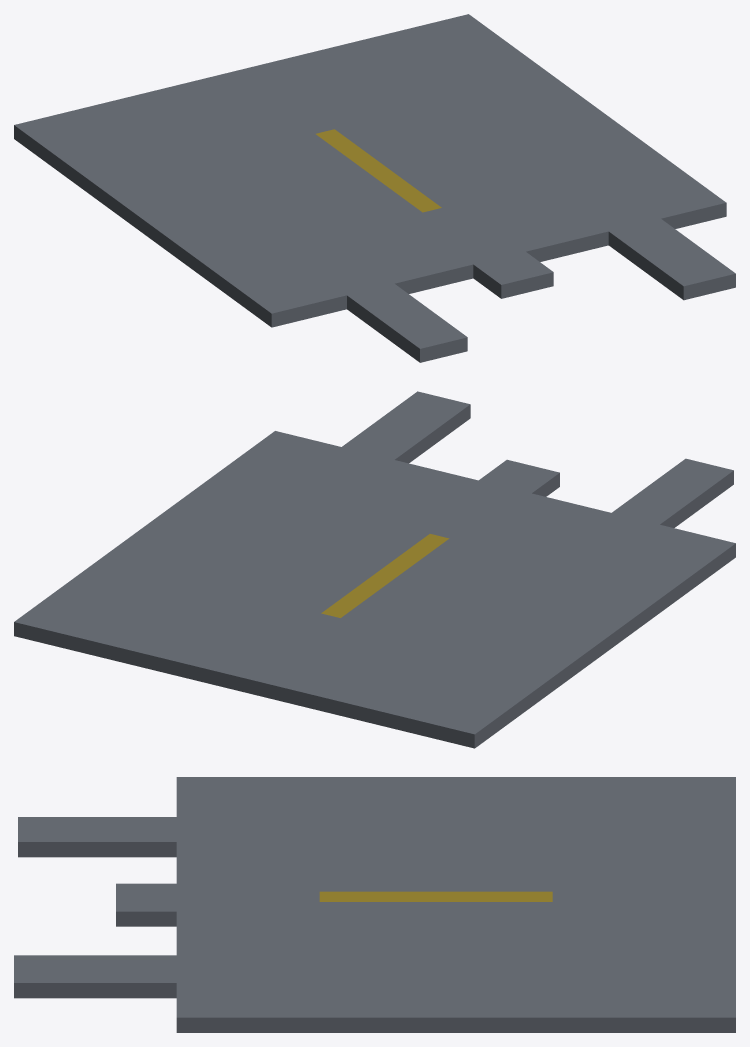
File: 1st floor.fbx
The picture shows the model from 3 angles, top to bottom: view 1: azimuth 30°, elevation 25°; view 2: azimuth 150°, elevation 25°; view 3: azimuth 270°, elevation 25°; orthographic projection. The views are drawn at different scales.
Parts seen in each view (by area): view 1: 1st; view 2: 1st; view 3: 1st.
Boxes of the visible parts, x1=… form: 1st: x1=14, y1=14, x2=735, y2=362; 1st: x1=14, y1=391, x2=735, y2=748; 1st: x1=14, y1=777, x2=735, y2=1032.
Bounding box in the file's own units: 2089 × 61.37 × 2647.
